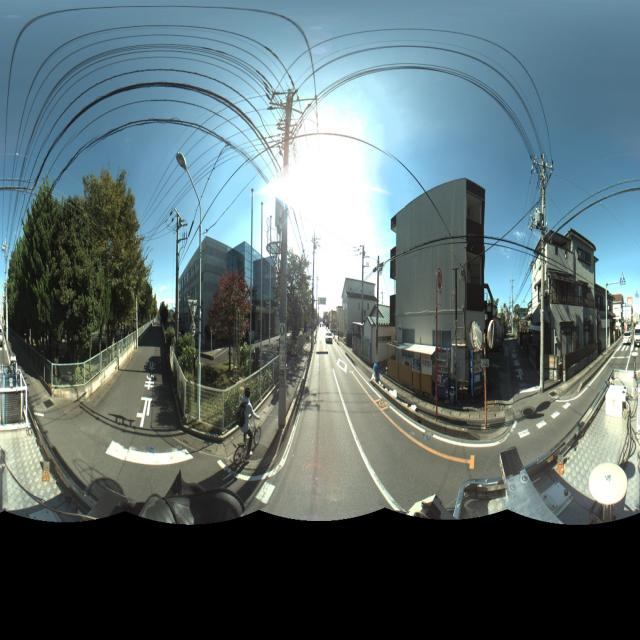b_1: (391, 177, 486, 390), (528, 224, 597, 381), (338, 266, 380, 344)
b_2: (170, 225, 286, 370)
